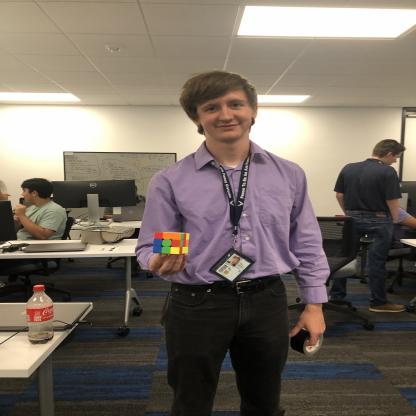UnsolvedCube: (152, 230, 186, 257)
